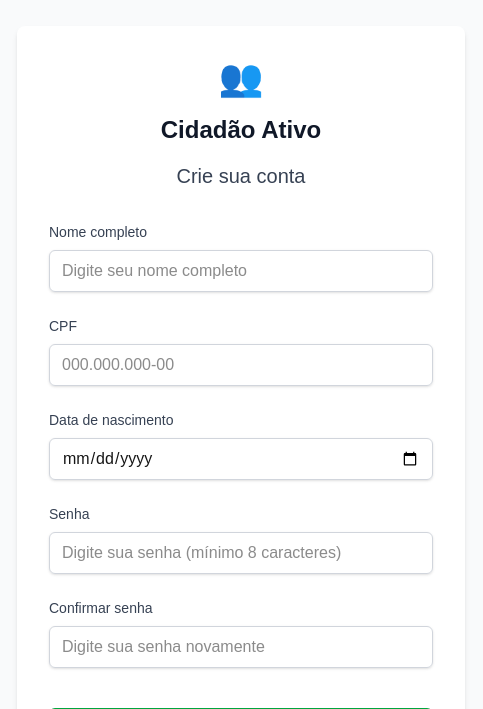
Test: Register Component › should validate password mismatch
In the password field labelled "Senha": (241, 553) [49,532,433,574], type "password123"
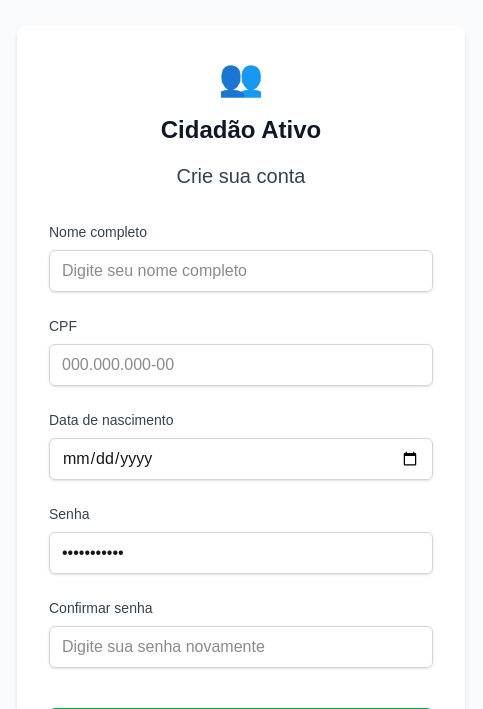
In the password field labelled "Confirmar senha": (241, 647) [49,626,433,668], type "password456"
(page scrolled)
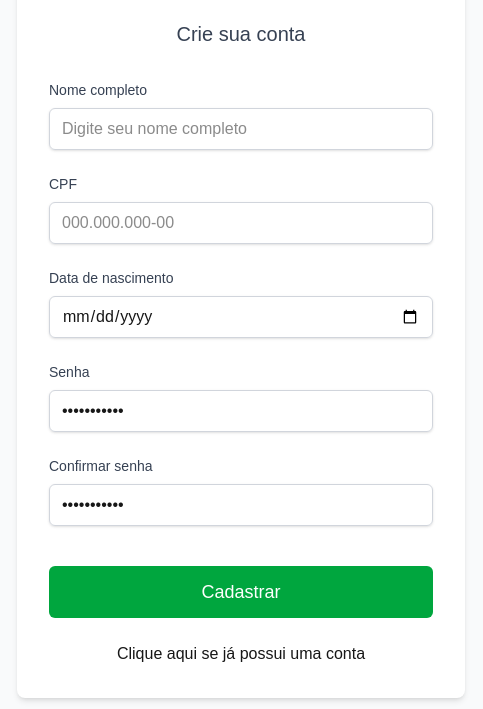
Click the button "Cadastrar": (241, 592) [49,566,433,618]
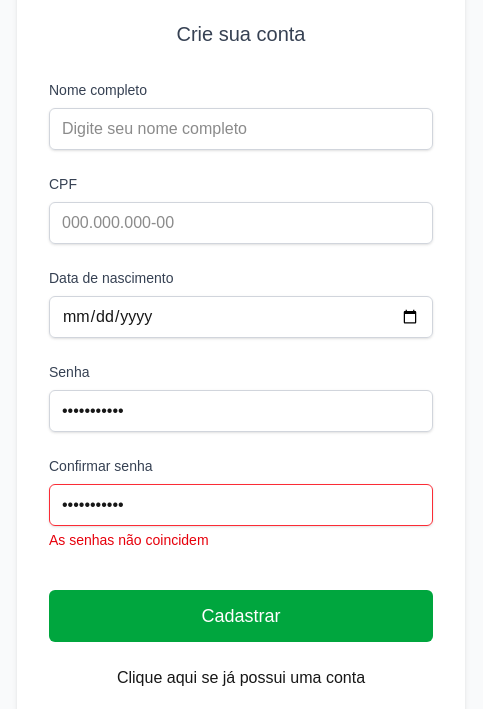
Expected: the text "As senhas não coincidem" is shown, [49,532,208,548]
